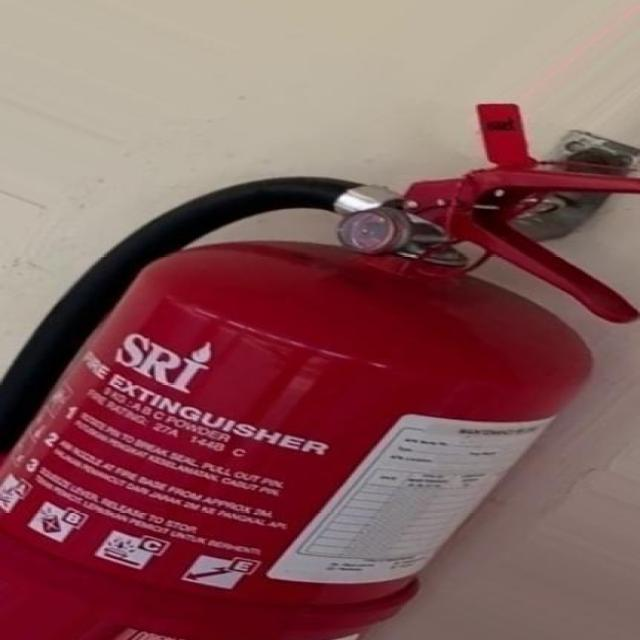fire_extinguisher: (0, 95, 637, 639)
